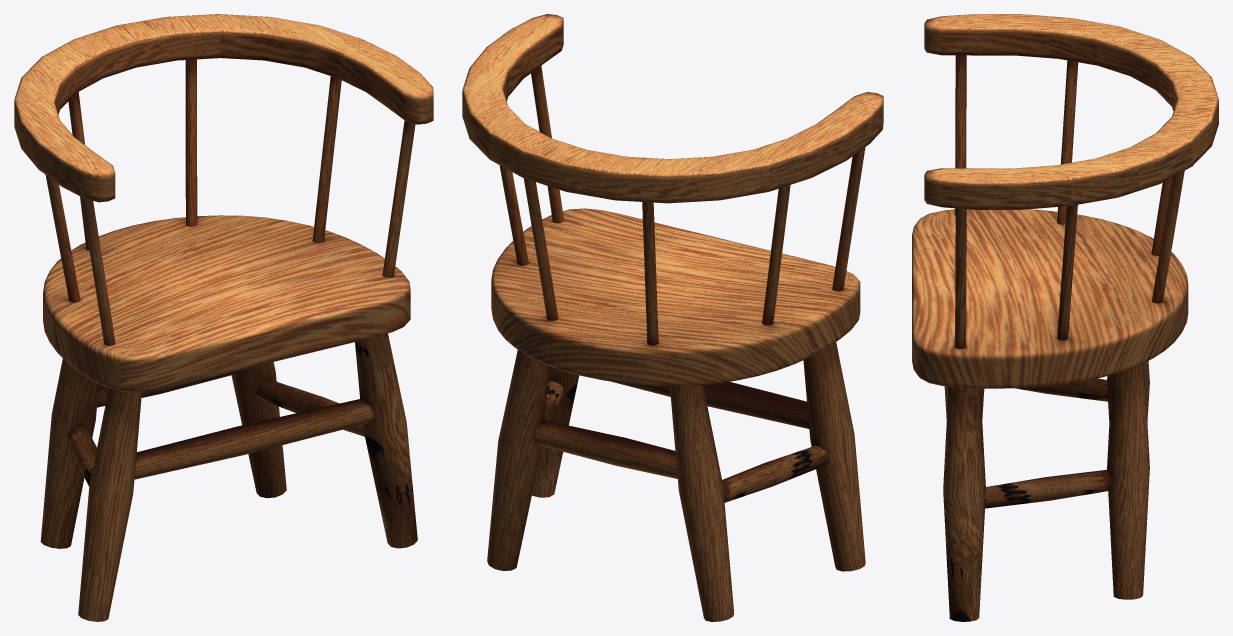
Rendered from baby chair2.fbx.
The picture shows the model from 3 angles, left to right: view 1: azimuth 30°, elevation 25°; view 2: azimuth 150°, elevation 25°; view 3: azimuth 270°, elevation 25°; orthographic projection. The views are drawn at different scales.
Visible parts, largest first — view 1: Cylinder.008; view 2: Cylinder.008; view 3: Cylinder.008.
Boxes of the visible parts, x1=… form: Cylinder.008: x1=14, y1=14, x2=433, y2=621; Cylinder.008: x1=462, y1=14, x2=883, y2=621; Cylinder.008: x1=912, y1=14, x2=1218, y2=621.
Bounding box in the file's own units: 2.41 × 2.96 × 1.84.
Materials: 1 (1 with a texture image).
